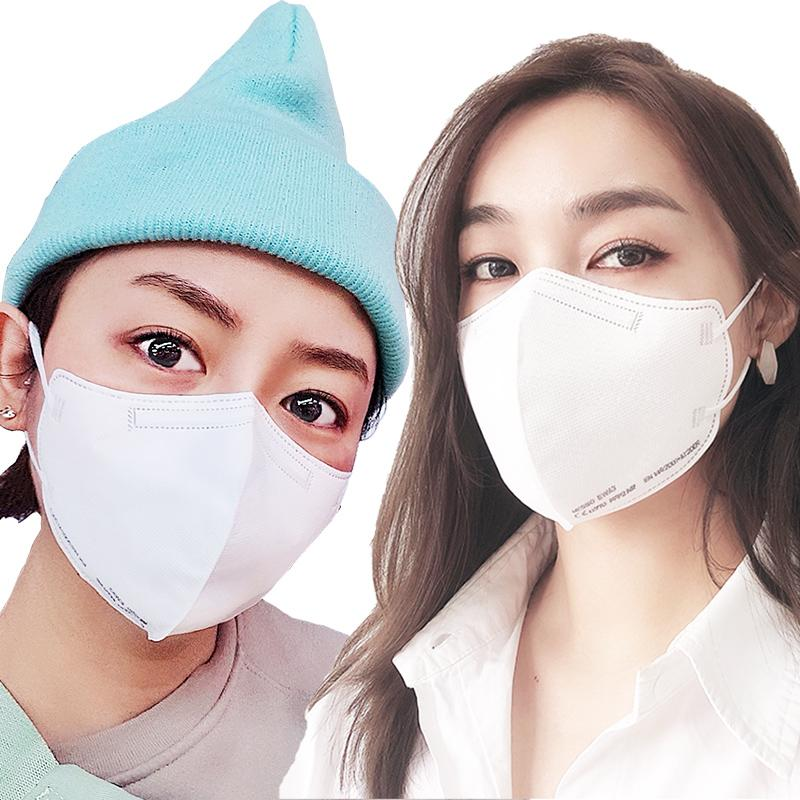mask: (34, 370, 359, 646), (447, 270, 749, 534)
person: (6, 14, 418, 800), (388, 14, 800, 800)
